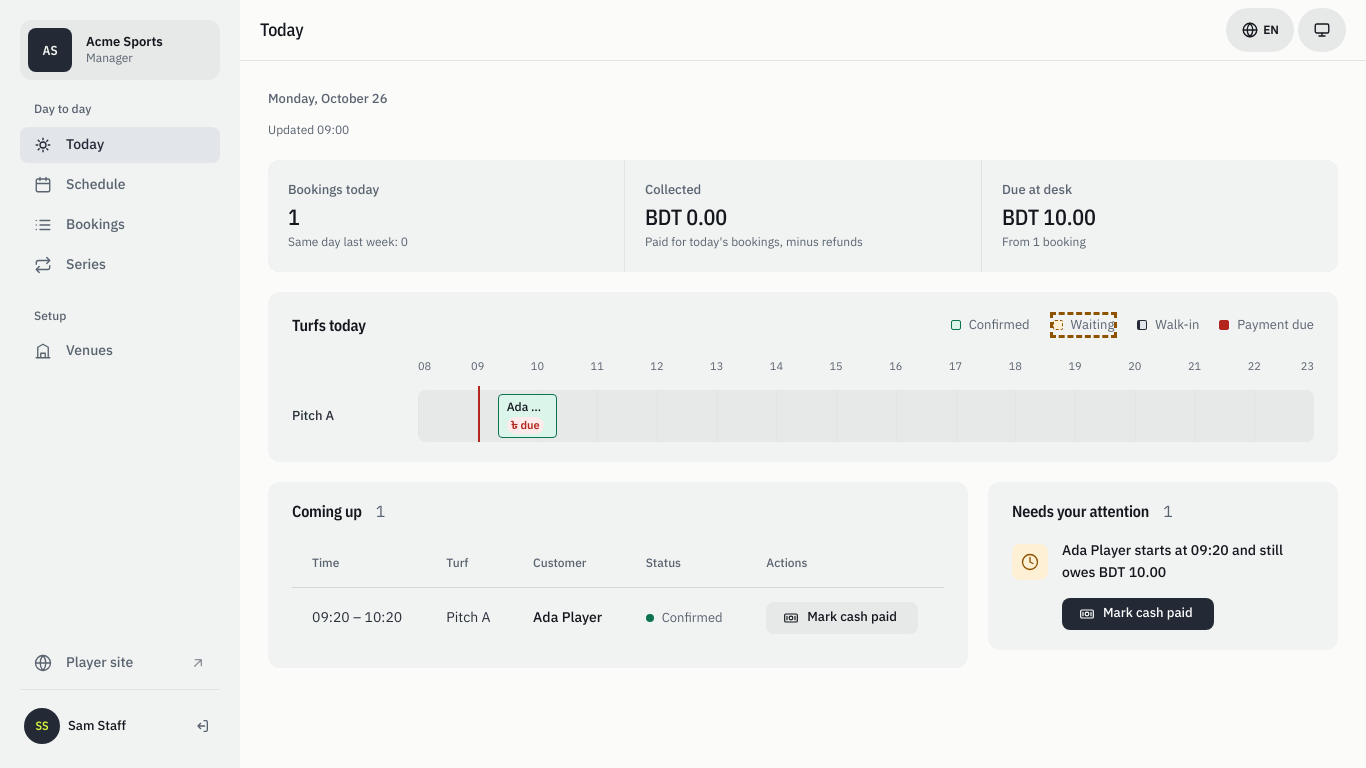
Test case: Today page › Attention keeps an open cash dialog when its row drops out on refresh
Click the button "Mark cash paid" below "Needs your attention". click: click(1138, 614)
box: x1=1062 y1=598 x2=1214 y2=630
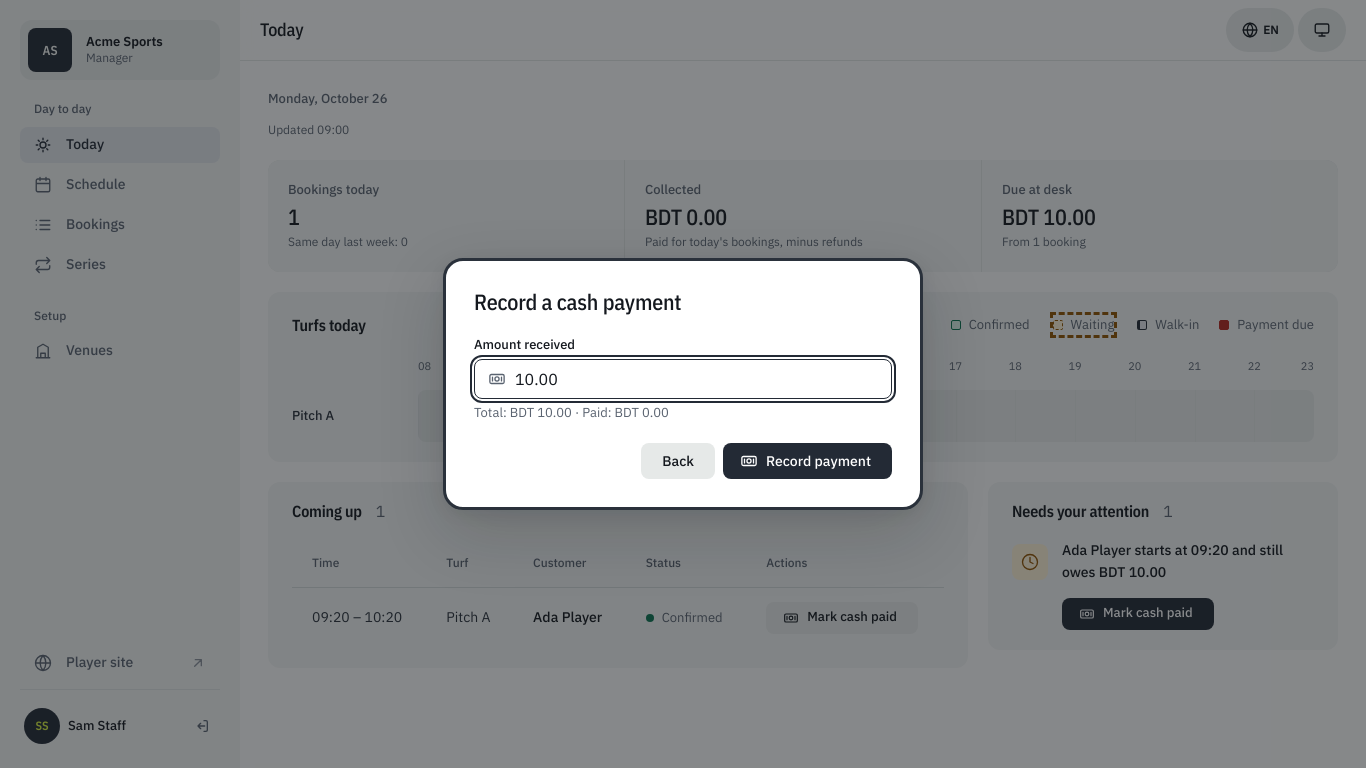
Replace the text in the field labelled "Amount received" with "7". click: (683, 379)
box: x1=474 y1=359 x2=892 y2=399
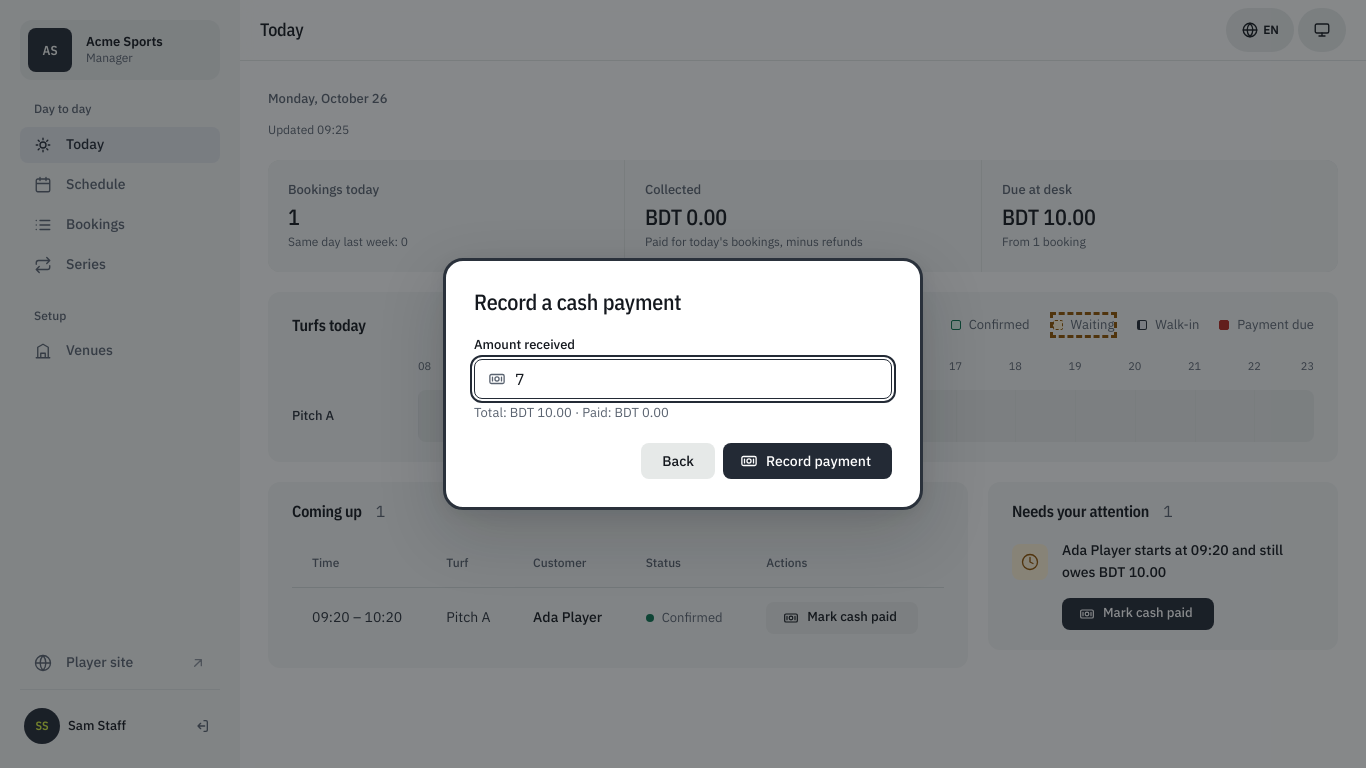
Check: the text "Updated 09:25" is shown, box x1=268 y1=122 x2=349 y2=137
